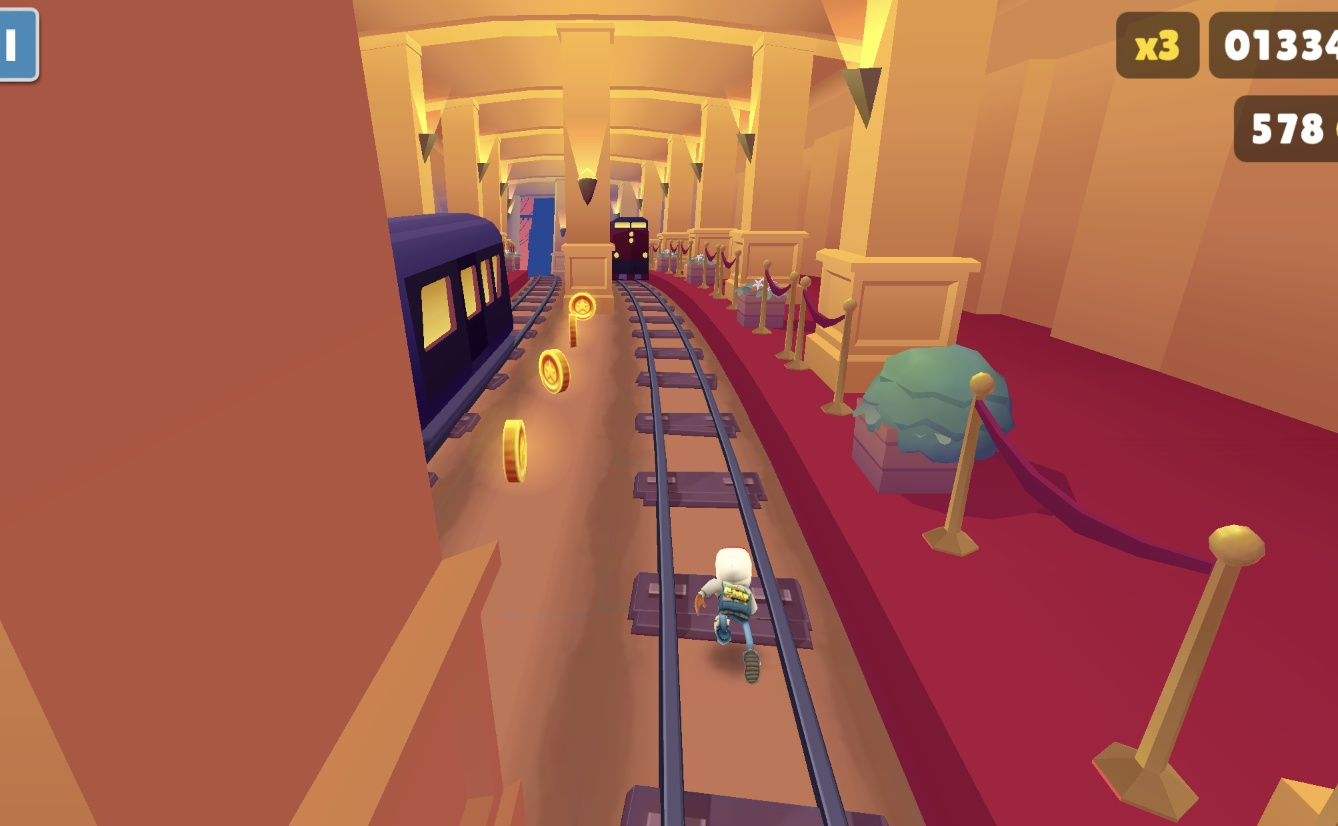pillar: (0, 0, 514, 826), (564, 37, 612, 319)
train: (404, 212, 532, 427), (612, 217, 649, 292)
